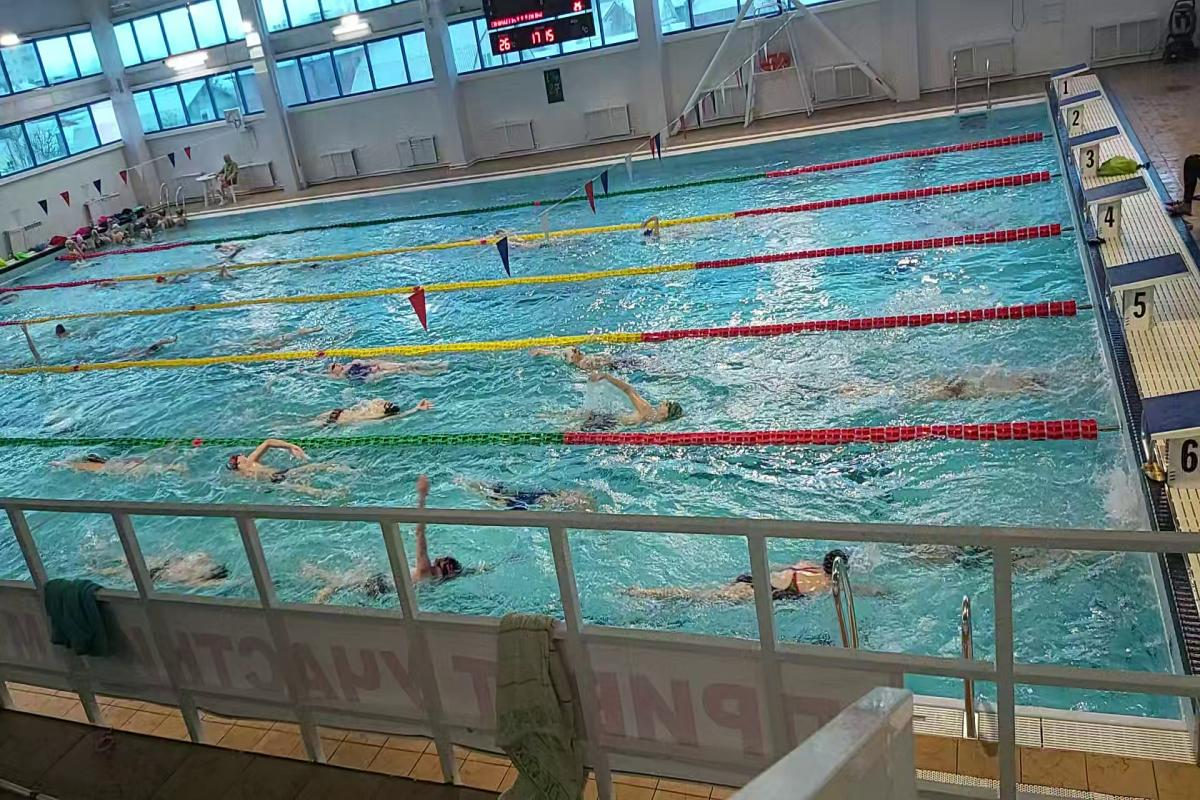swimmer: (312, 524, 508, 596), (645, 556, 866, 609), (215, 438, 346, 499), (897, 369, 1087, 407), (94, 544, 240, 590), (457, 467, 599, 512), (58, 449, 191, 484), (592, 386, 690, 428), (317, 359, 445, 388), (317, 396, 434, 424), (541, 350, 647, 371), (641, 213, 671, 242), (48, 324, 84, 345), (153, 270, 193, 288)
